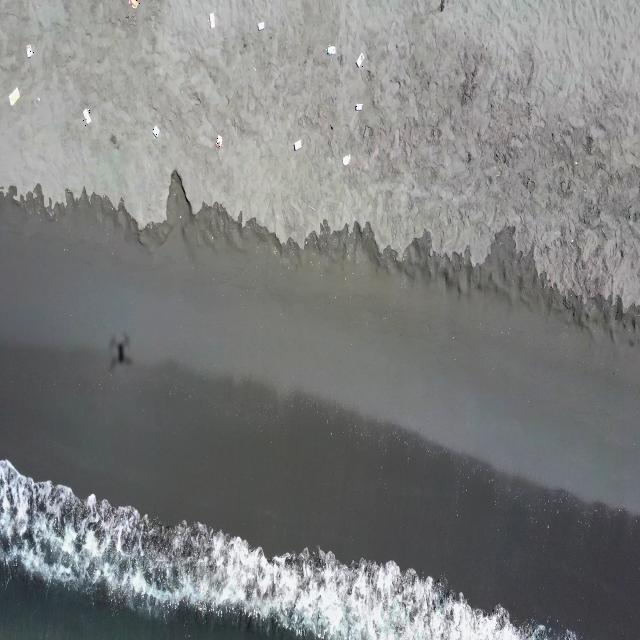Garbage: (8, 87, 19, 104), (355, 51, 364, 67), (84, 108, 91, 123), (151, 125, 159, 138), (292, 139, 300, 150), (128, 0, 138, 8), (26, 44, 32, 56), (327, 45, 335, 54), (216, 134, 221, 148), (209, 12, 213, 27), (343, 155, 350, 163), (355, 103, 362, 110), (257, 22, 263, 30), (35, 96, 39, 101)
